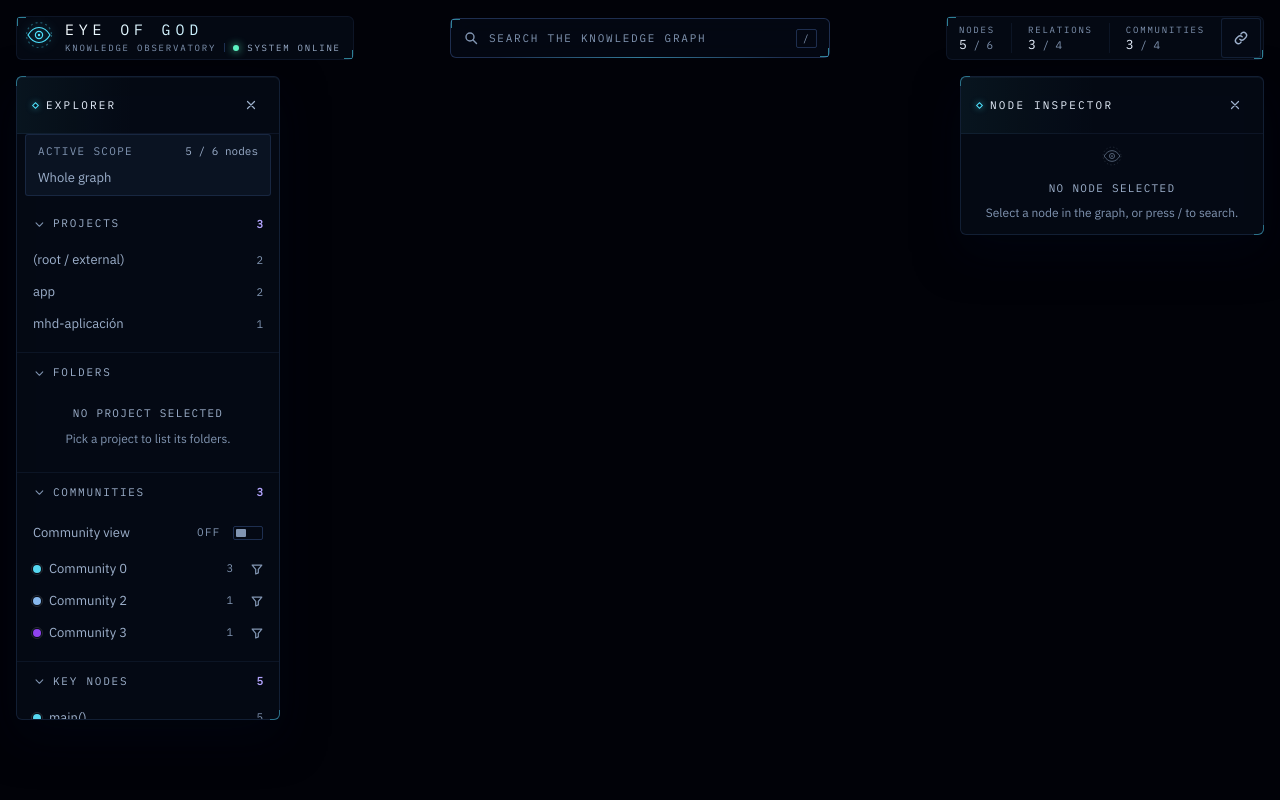
explorer → store → graph › picking a community draws only that community and updates the counters
Step 1. Click the button named "Show only Community 2" → click(257, 600), box [243,586,271,614]
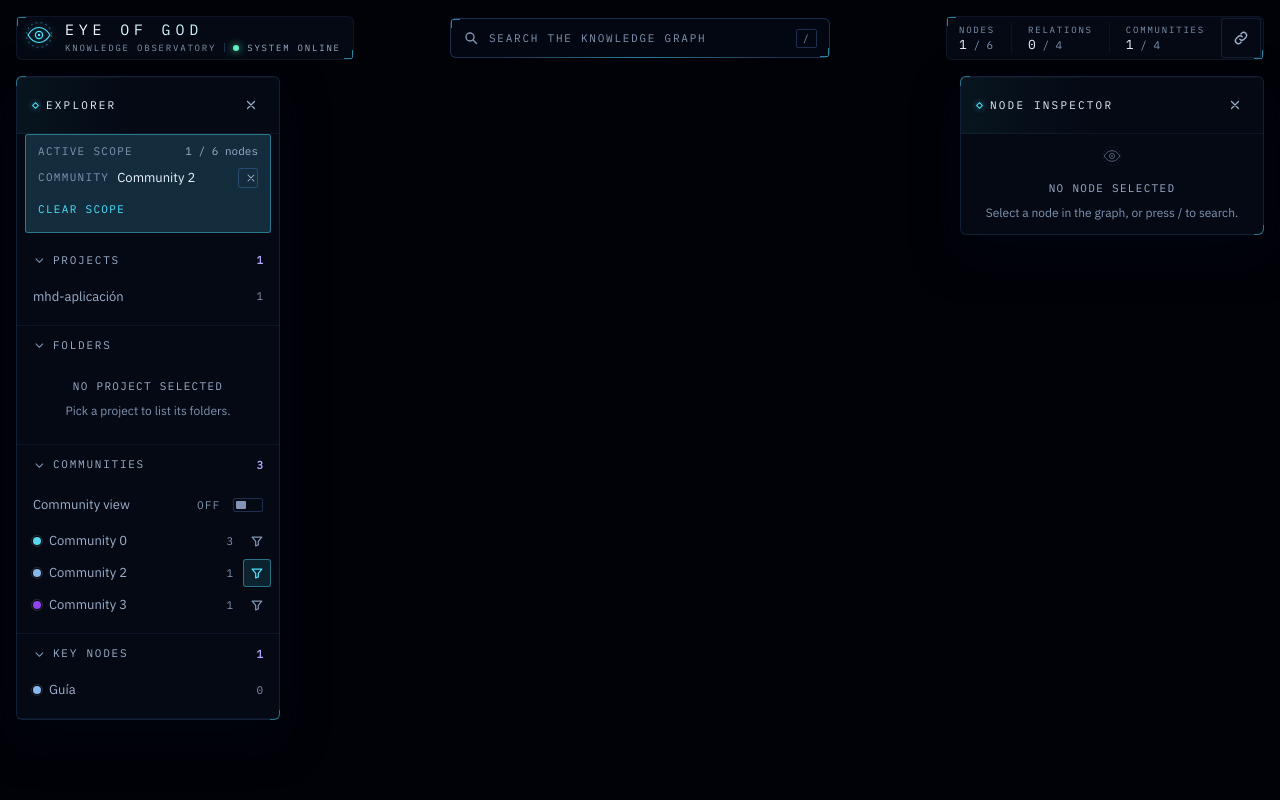
Result: the element showing "1 / 6" is shown at [959,38,995,53]
Result: the text "1 / 6 nodes" is shown at [185,143,258,160]
